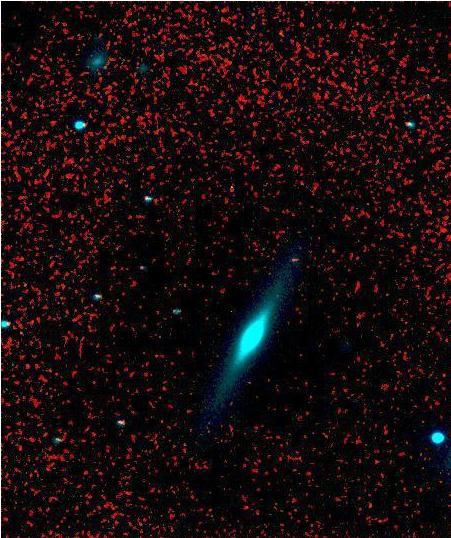star: (222, 294, 252, 324)
